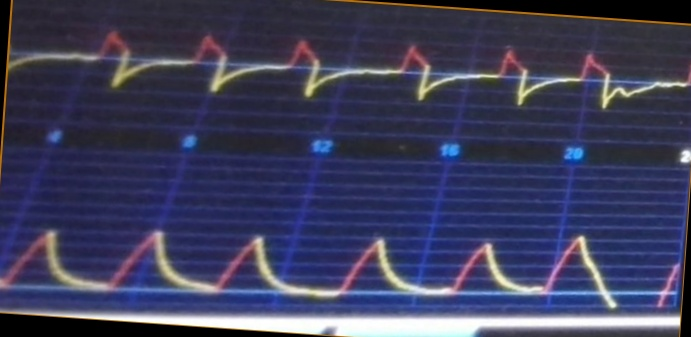Premature_cycling Flow: (13, 24, 670, 121)
Premature_cycling Volume: (3, 216, 670, 309)
